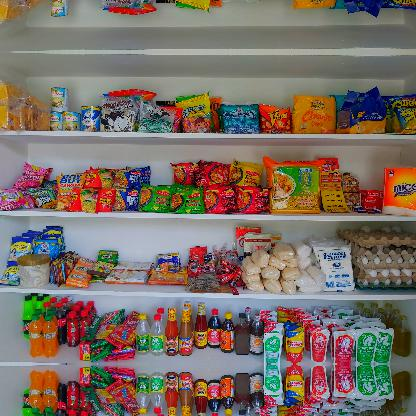Lady-s-Choice: (16, 253, 50, 287)
